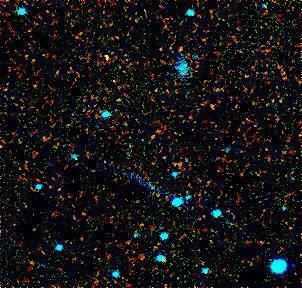star: (140, 120, 170, 150)
